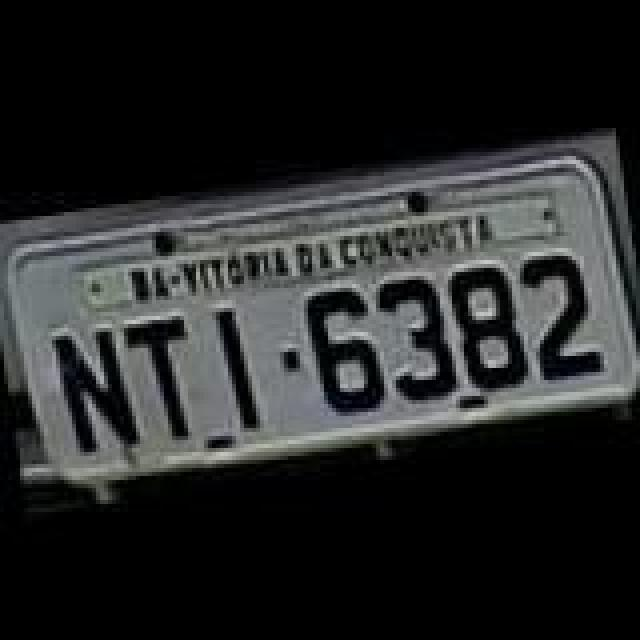1: (204, 298, 276, 438)
2: (510, 240, 610, 384)
3: (366, 260, 466, 412)
6: (296, 278, 392, 418)
8: (440, 252, 536, 396)
N: (48, 314, 144, 462)
T: (112, 314, 208, 454)
